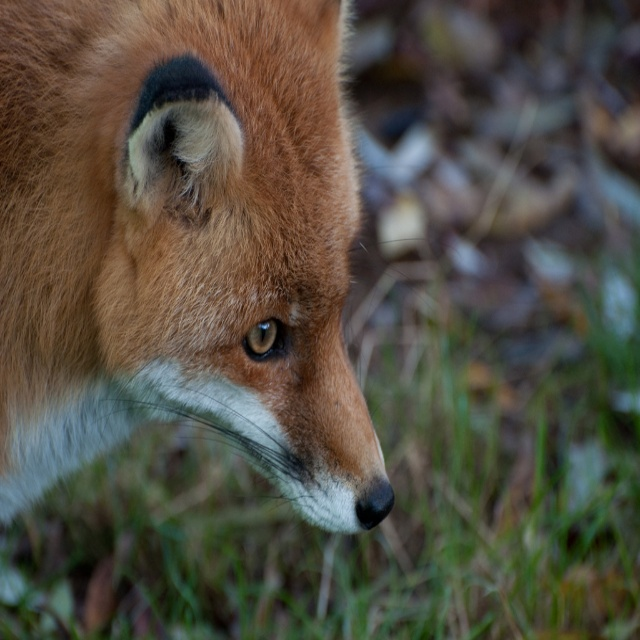Fox: (0, 0, 463, 536)
